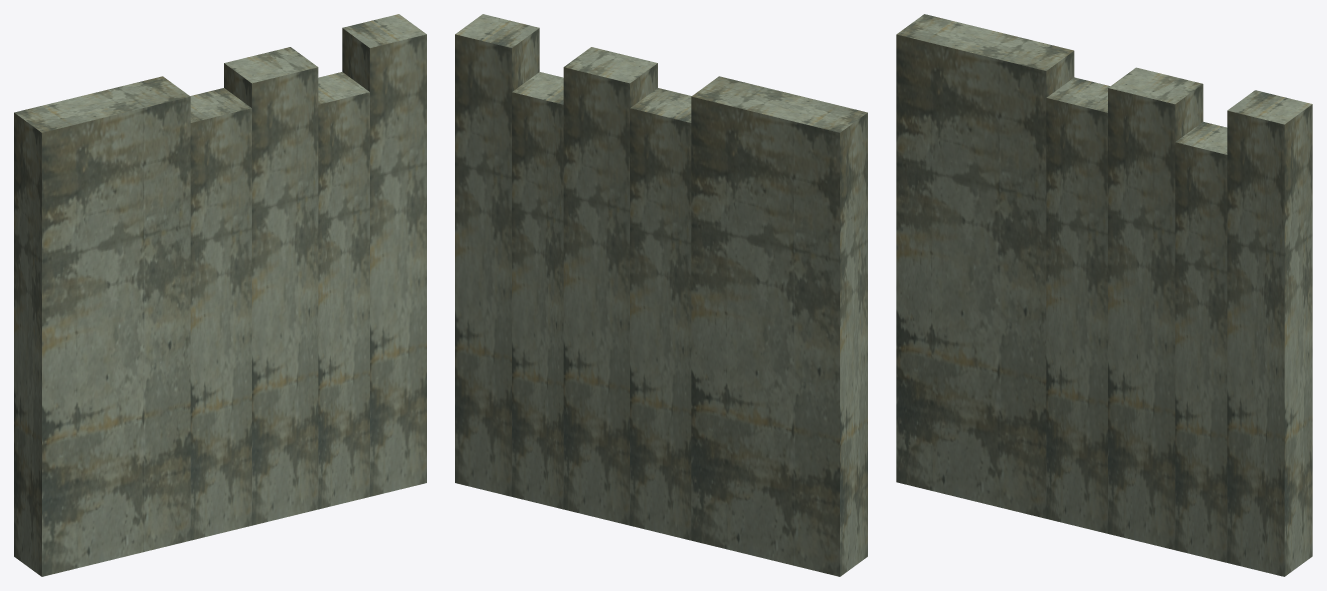
The model's file is Concrete_Wall_Ruined.glb.
The picture shows the model from 3 angles, left to right: view 1: azimuth 30°, elevation 25°; view 2: azimuth 150°, elevation 25°; view 3: azimuth 330°, elevation 25°; orthographic projection.
Visible parts, largest first — view 1: Concrete_Wall_Ruined; view 2: Concrete_Wall_Ruined; view 3: Concrete_Wall_Ruined.
Boxes of the visible parts, <box> form: Concrete_Wall_Ruined: <box>14,14,426,576</box>; Concrete_Wall_Ruined: <box>455,14,867,576</box>; Concrete_Wall_Ruined: <box>896,14,1312,576</box>.
Size of the model in its own units: 4.4 by 4.9 by 0.55.
1 material, 1 textured.
